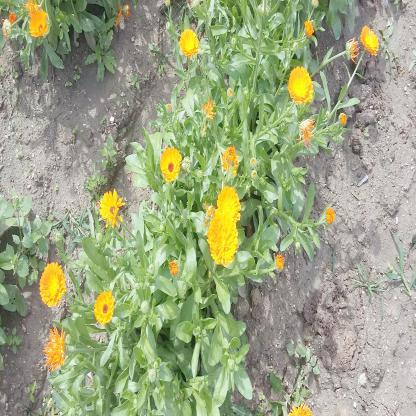marigold: (209, 215, 238, 261), (40, 264, 66, 302), (43, 332, 67, 366), (290, 67, 313, 101), (220, 187, 239, 221), (101, 192, 121, 222), (94, 292, 113, 323), (29, 10, 50, 38), (162, 150, 180, 180), (362, 24, 378, 54), (181, 29, 199, 53)
